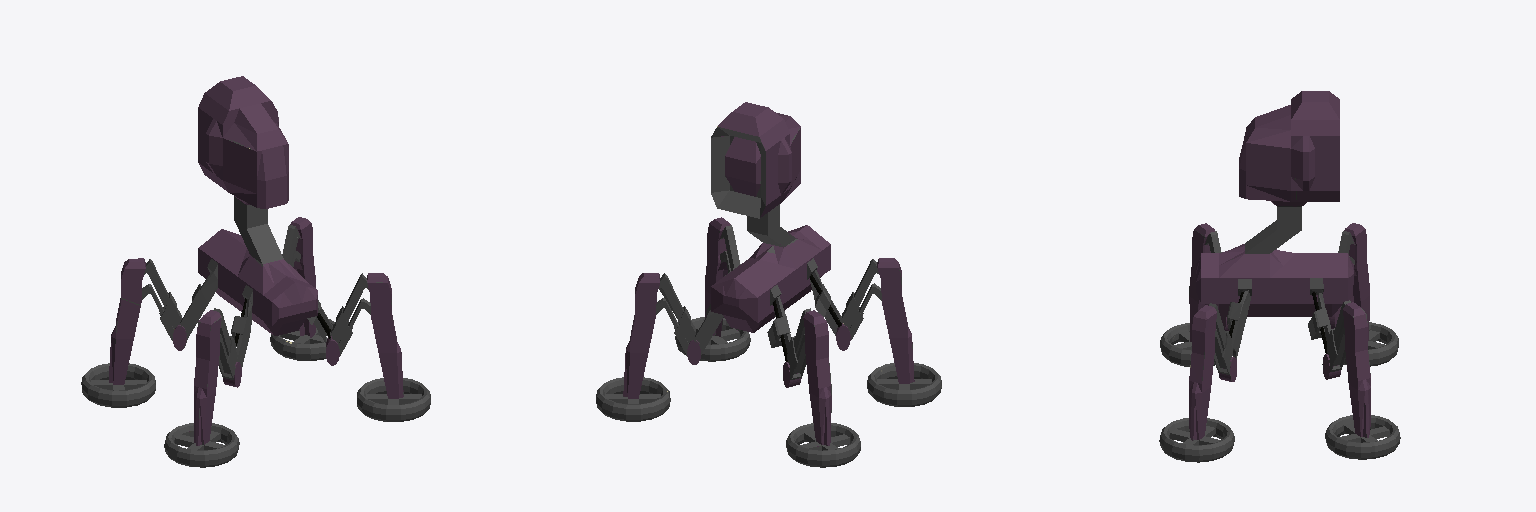
3 views of the same model, side by side, from view 1: azimuth 30°, elevation 25°; view 2: azimuth 150°, elevation 25°; view 3: azimuth 270°, elevation 25° (orthographic).
Parts seen in each view (by area): view 1: enemy_robot03; view 2: enemy_robot03; view 3: enemy_robot03.
Boxes of the visible parts, <box> form: enemy_robot03: <box>81,76,430,467</box>; enemy_robot03: <box>596,102,941,467</box>; enemy_robot03: <box>1159,91,1400,462</box>.
Size of the model in its own units: 1.68 by 1.98 by 1.36.
2 materials, 1 textured.